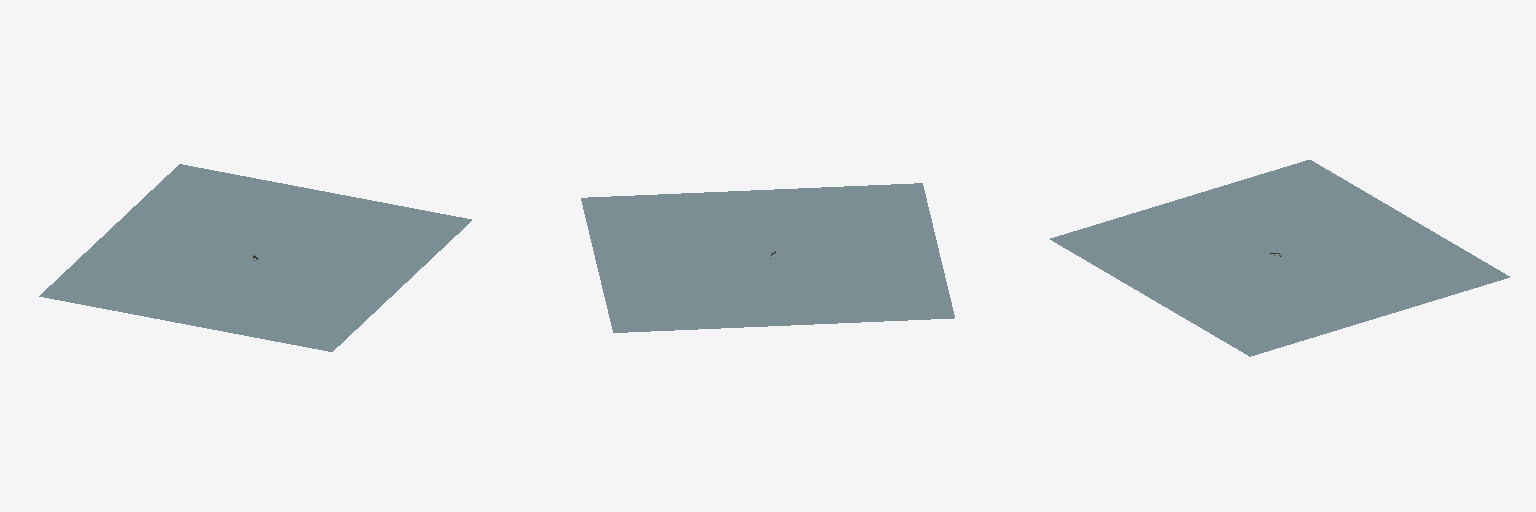
Rendered from Scifi_shotgun_OBJ.obj.
3 renders of one model, left to right at view 1: azimuth 30°, elevation 25°; view 2: azimuth 150°, elevation 25°; view 3: azimuth 270°, elevation 25°, orthographic.
Parts seen in each view (by area): view 1: ground; view 2: ground; view 3: ground.
Boxes of the visible parts, x1,y1,x2,y2 form: ground: [39, 164, 471, 351]; ground: [581, 183, 954, 332]; ground: [1050, 160, 1509, 356].
Size of the model in its own units: 11236 by 113 by 11116.